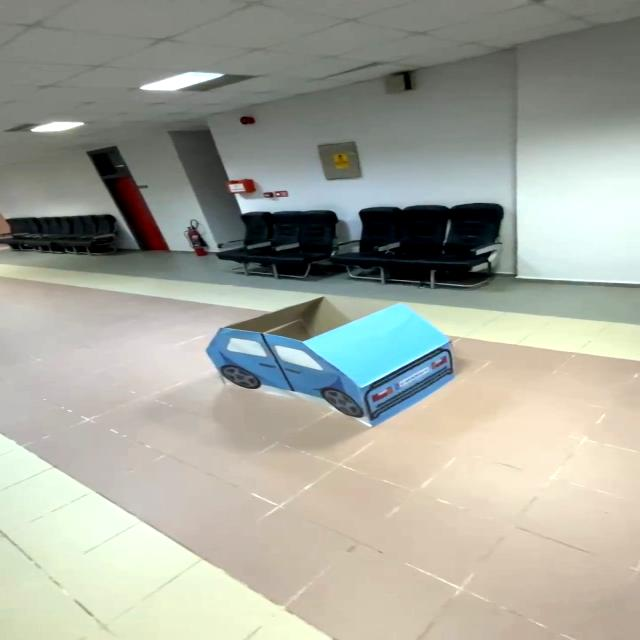blue_car: (183, 282, 477, 449)
